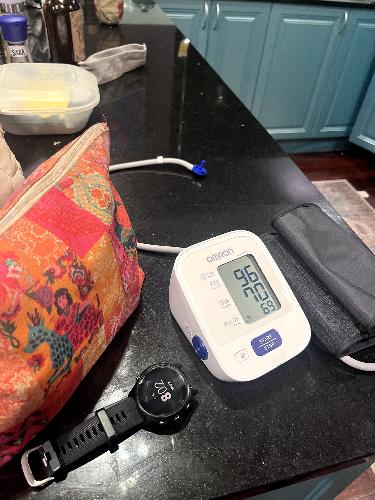bpm: (212, 243, 288, 332)
